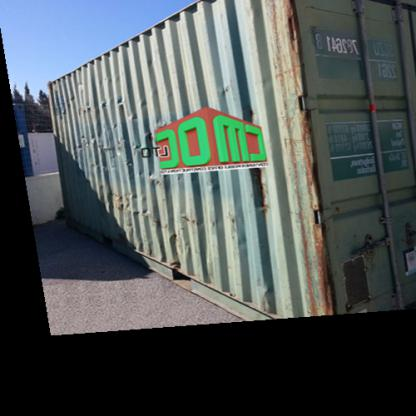Damage: (70, 129, 152, 161), (93, 180, 154, 220), (226, 207, 254, 253), (72, 92, 133, 112), (164, 225, 192, 266)
